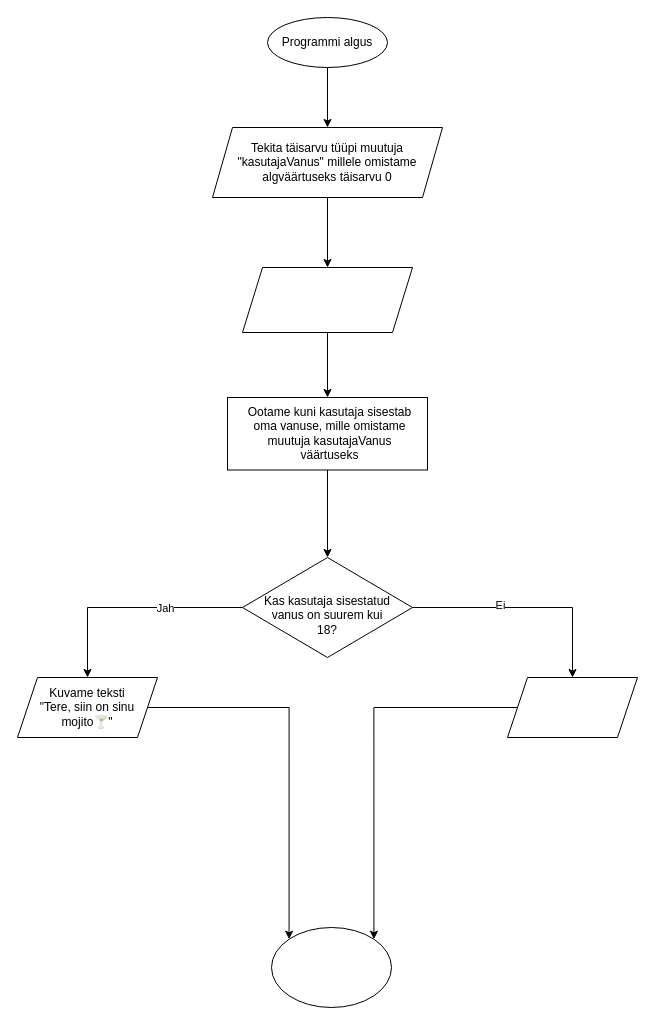
Some shapes in this 655 by 1025 pixel diagram are drawn without their labels. The shapes that lost their labels are listed below. From the top down, each one's centre as x and y in pixels, then its label:
(x=327, y=299): Kuva kasutajale tekst "Kui vana sa oled?"
(x=572, y=707): Kuvame teksti "tõmba metsa, kuradi alakas"
(x=331, y=967): Programmi lõpp
